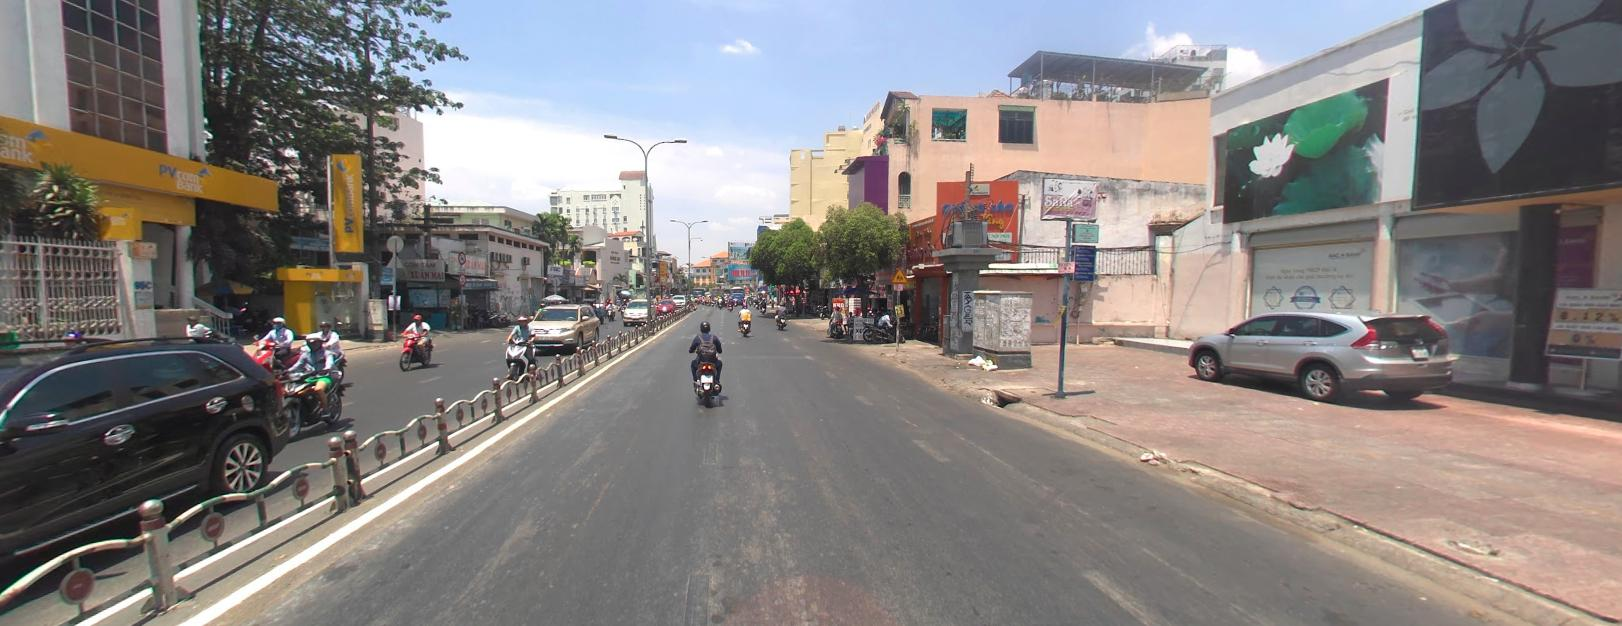Cam con lai: (458, 250, 466, 262), (458, 272, 466, 283)
Nguy hiem: (891, 266, 909, 281)
